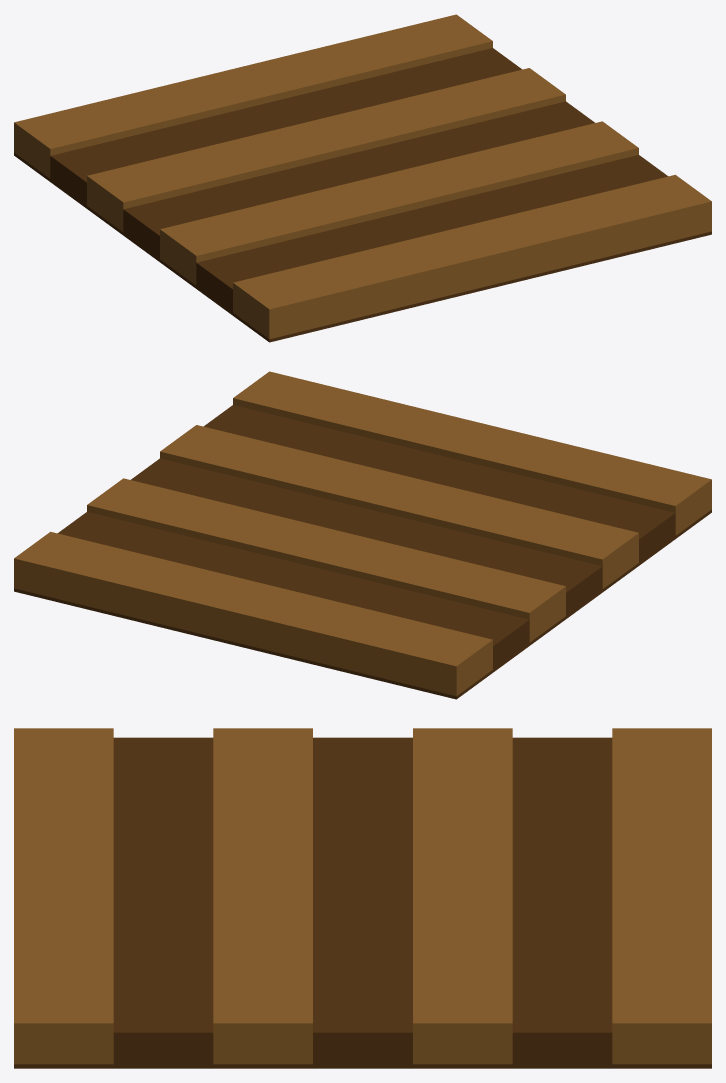
The model's file is FarmField_01.fbx.
The picture shows the model from 3 angles, top to bottom: view 1: azimuth 30°, elevation 25°; view 2: azimuth 150°, elevation 25°; view 3: azimuth 270°, elevation 25°; orthographic projection. The views are drawn at different scales.
Visible parts, largest first — view 1: FarmField_01; view 2: FarmField_01; view 3: FarmField_01.
Boxes of the visible parts, box(x1,y1,x2,y2) form: FarmField_01: box(14, 14, 711, 342); FarmField_01: box(14, 371, 711, 699); FarmField_01: box(14, 728, 711, 1068).
Size of the model in its own units: 1 by 0.0716 by 1.
